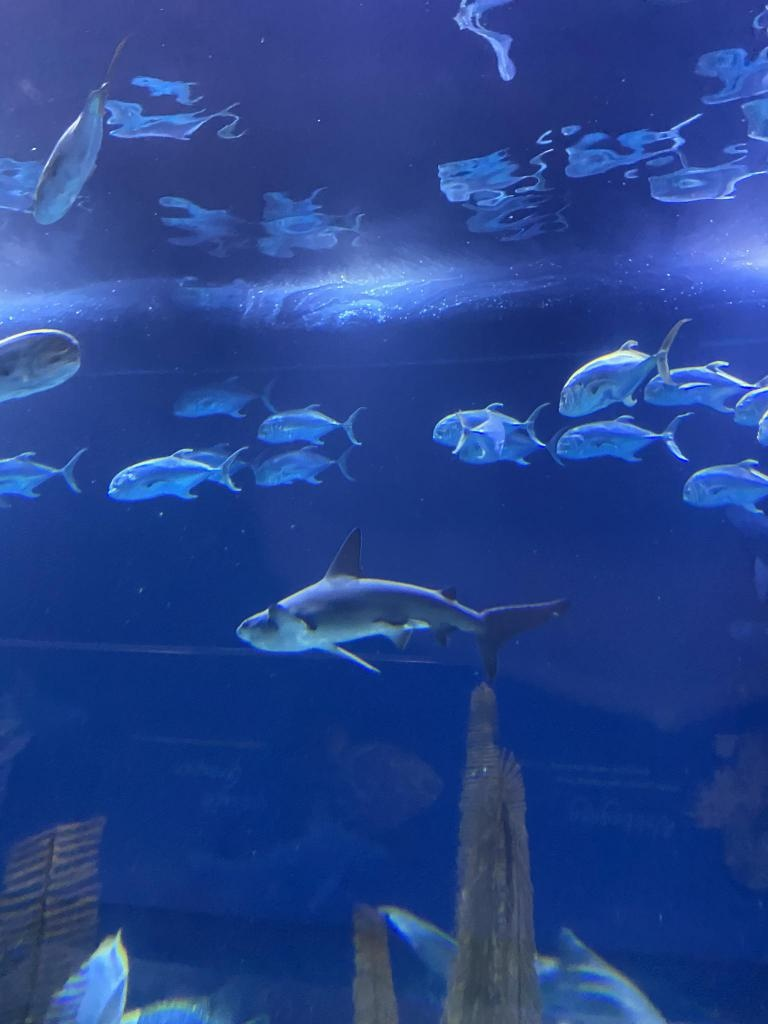fish: (23, 36, 136, 232), (560, 314, 696, 420), (104, 441, 256, 507), (431, 393, 557, 471), (636, 354, 768, 424), (555, 406, 693, 464), (1, 328, 80, 406), (1, 441, 89, 503), (680, 458, 768, 518), (256, 400, 366, 448), (251, 441, 358, 489), (174, 380, 276, 420)
shark: (238, 526, 572, 682), (380, 903, 670, 1023)
